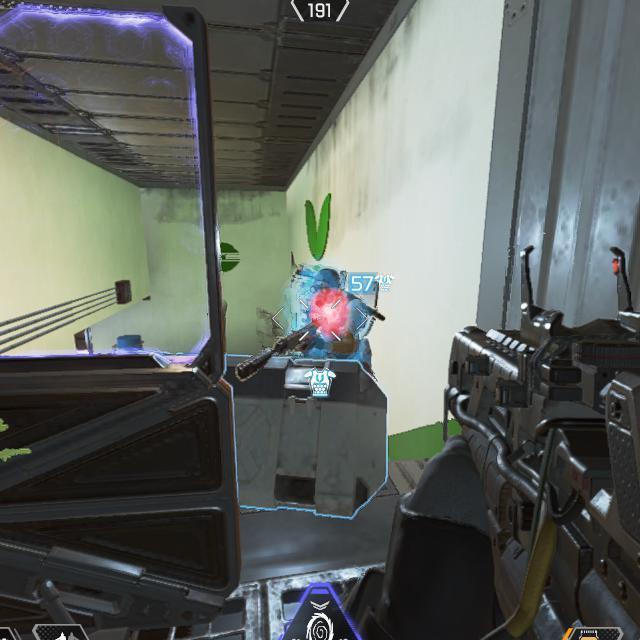avatar: (288, 263, 372, 361)
object: (309, 285, 351, 340)
